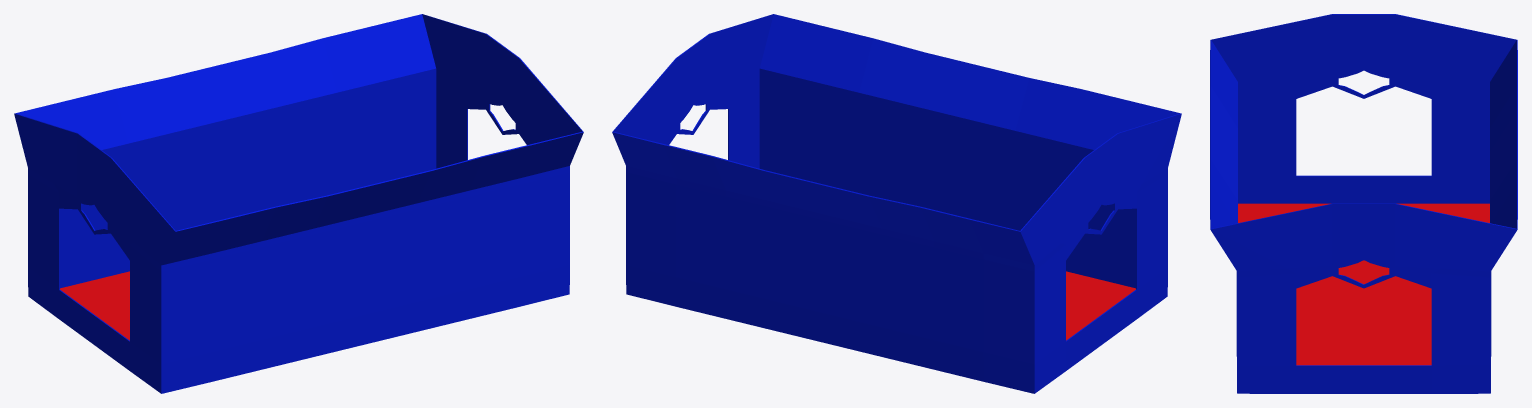
File: DulingRoomWallsAndFloor.fbx
3 views of the same model, side by side, from view 1: azimuth 30°, elevation 25°; view 2: azimuth 150°, elevation 25°; view 3: azimuth 270°, elevation 25° (orthographic). The views are drawn at different scales.
Parts seen in each view (by area): view 1: 0_RoomWorking.001; view 2: 0_RoomWorking.001; view 3: 0_RoomWorking.001.
Part boxes in pixels (box(x1,y1,x2,y2)): 0_RoomWorking.001: box(14, 14, 583, 393); 0_RoomWorking.001: box(612, 14, 1181, 393); 0_RoomWorking.001: box(1210, 14, 1517, 393).
Size of the model in its own units: 18405 by 8594 by 12599.
